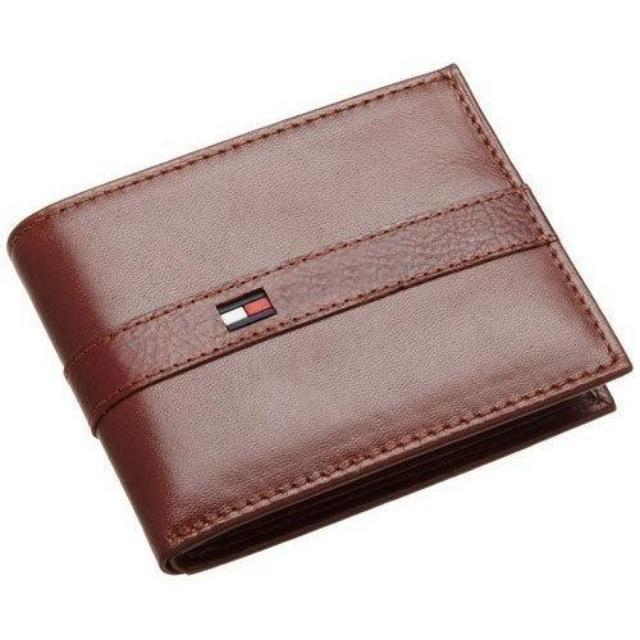wallet: (8, 62, 632, 576)
